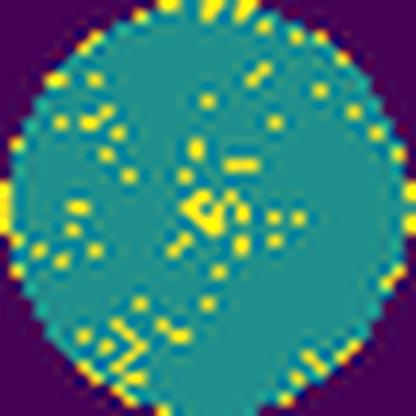Center: (180, 184, 257, 237)
